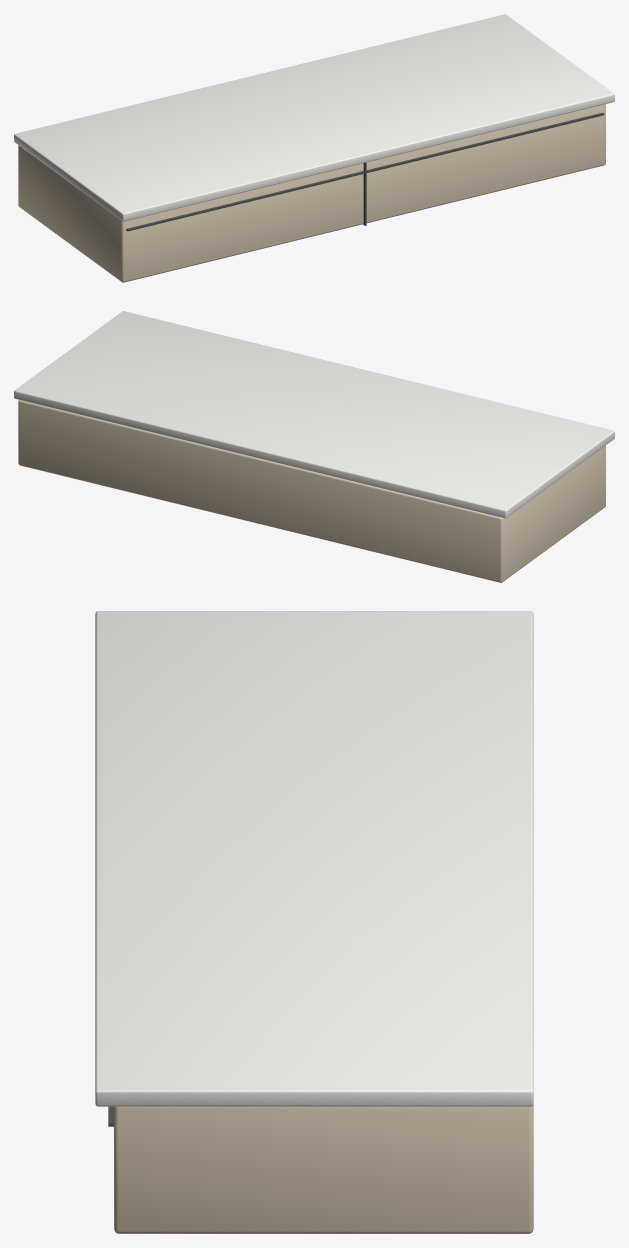
Rendered from mo_dresser.glb.
The picture shows the model from 3 angles, top to bottom: view 1: azimuth 30°, elevation 25°; view 2: azimuth 150°, elevation 25°; view 3: azimuth 270°, elevation 25°; orthographic projection. The views are drawn at different scales.
Visible parts, largest first — view 1: top, body, line; view 2: top, body; view 3: top, body.
Part boxes in pixels (box(x1,y1,x2,y2)): top: box(14, 14, 614, 221); body: box(18, 104, 605, 282); line: box(126, 112, 604, 231); top: box(14, 311, 614, 518); body: box(18, 400, 605, 582); top: box(95, 611, 533, 1106); body: box(114, 1104, 533, 1233).
Size of the model in its own units: 1.22 by 0.18 by 0.47.
